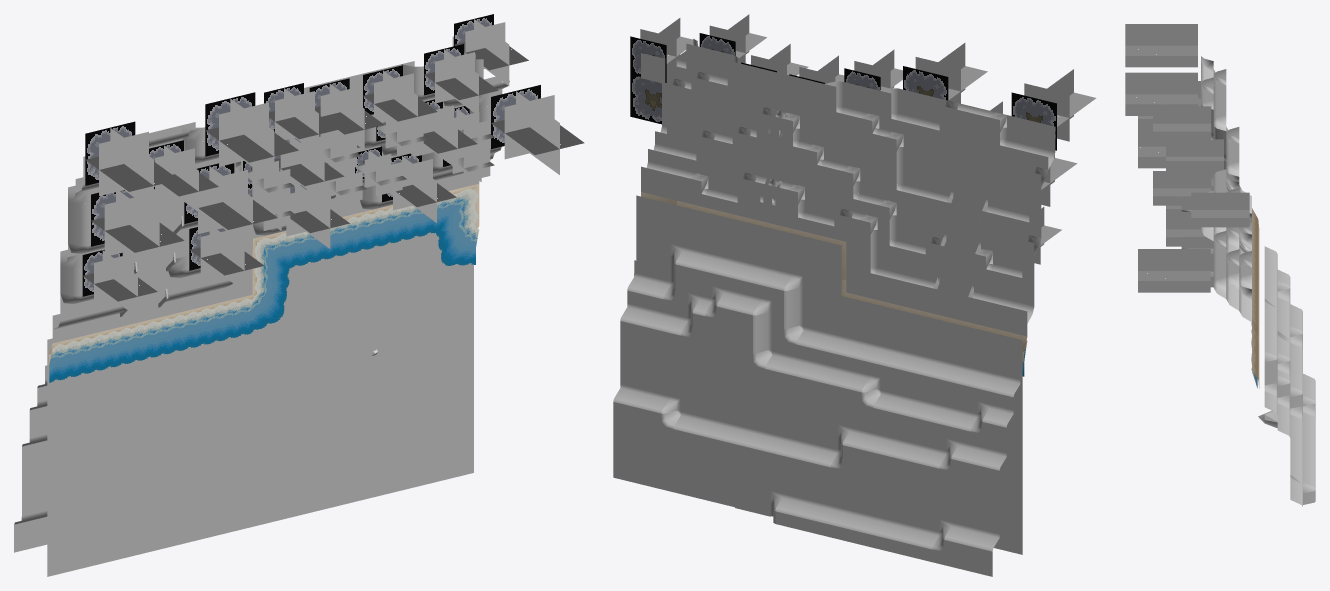
File: Barrier-Reef_01_14.obj
The picture shows the model from 3 angles, left to right: view 1: azimuth 30°, elevation 25°; view 2: azimuth 150°, elevation 25°; view 3: azimuth 270°, elevation 25°; orthographic projection. The views are drawn at different scales.
Parts seen in each view (by area): view 1: map; view 2: map; view 3: map.
Boxes of the visible parts, x1=… form: map: x1=14, y1=14, x2=584, y2=576; map: x1=613, y1=14, x2=1096, y2=576; map: x1=1125, y1=24, x2=1315, y2=506.
Size of the model in its own units: 34.75 by 33.88 by 14.94.
